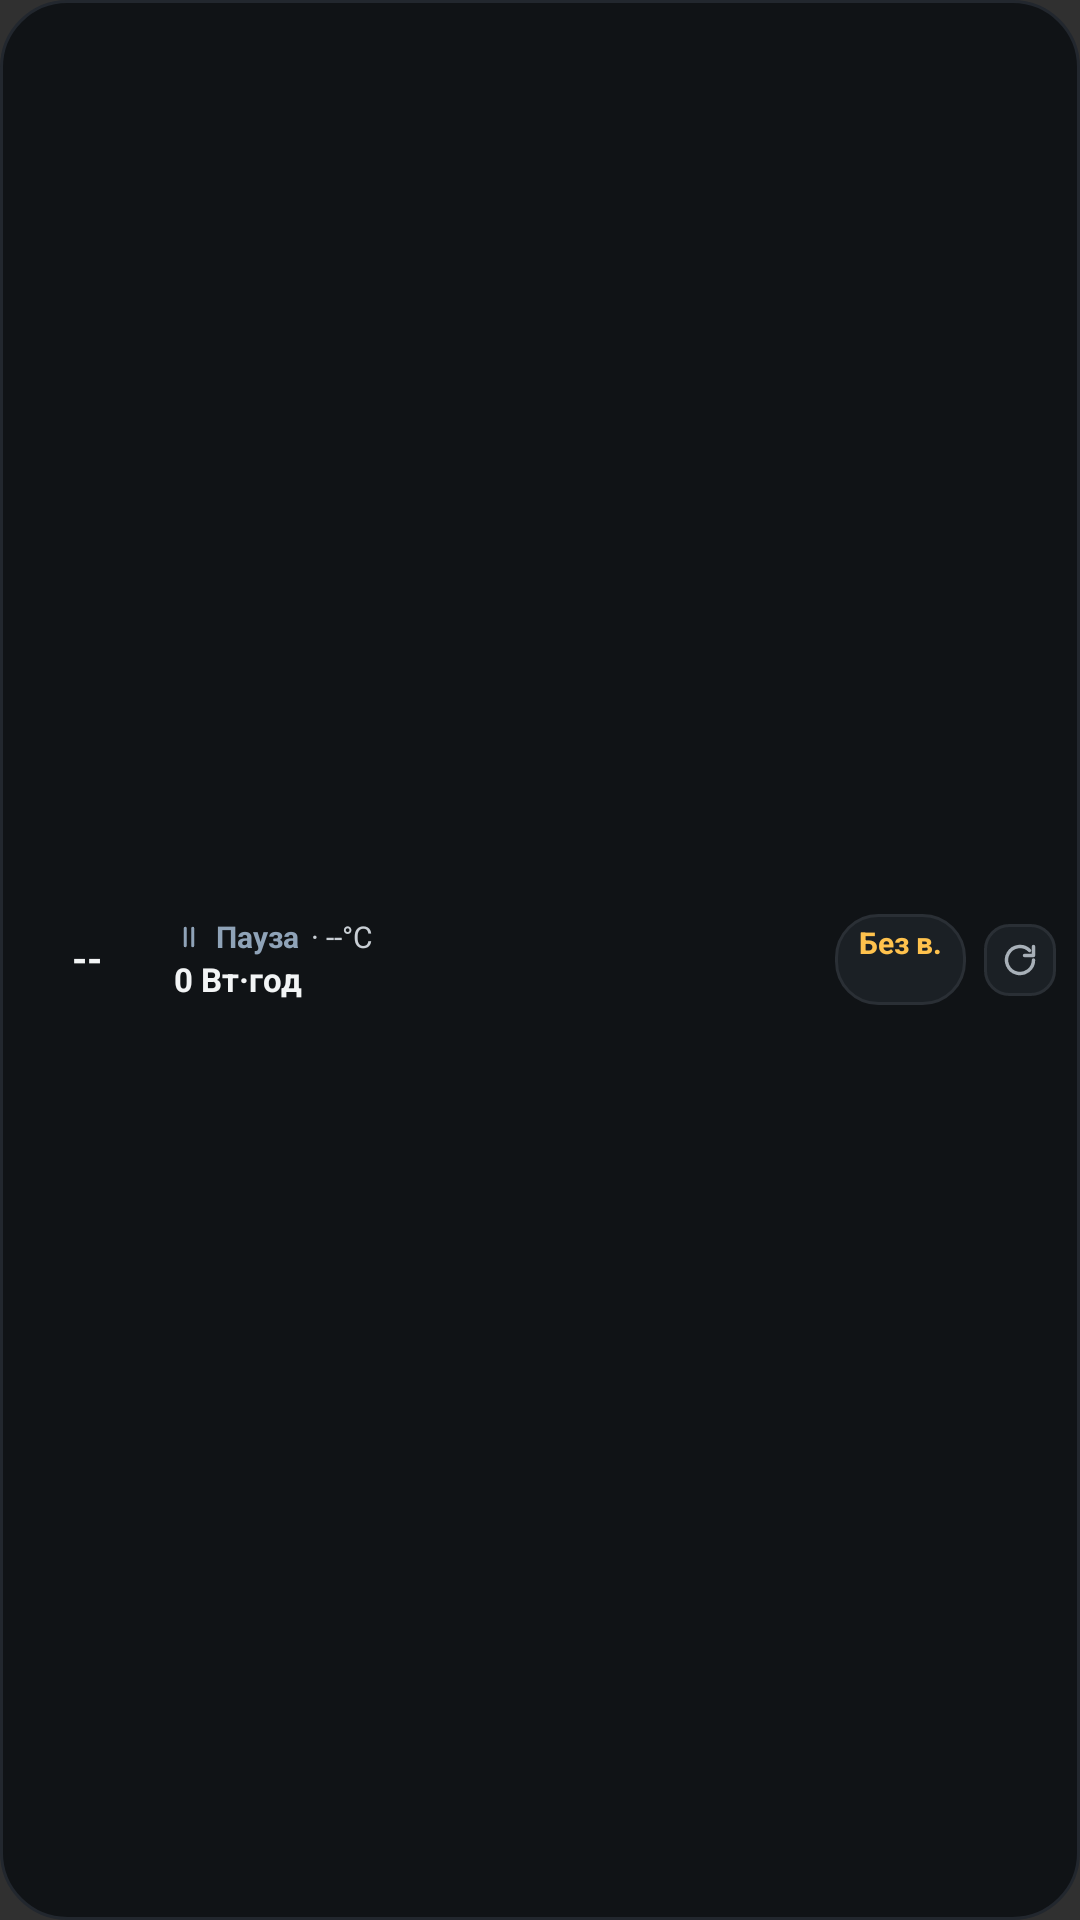

Icons on this 1080 × 1920 Android screen, each with its box as {"left": x1, "top": y1, "right": x2, "bottom": y2}:
refresh: {"left": 1004, "top": 944, "right": 1036, "bottom": 976}
